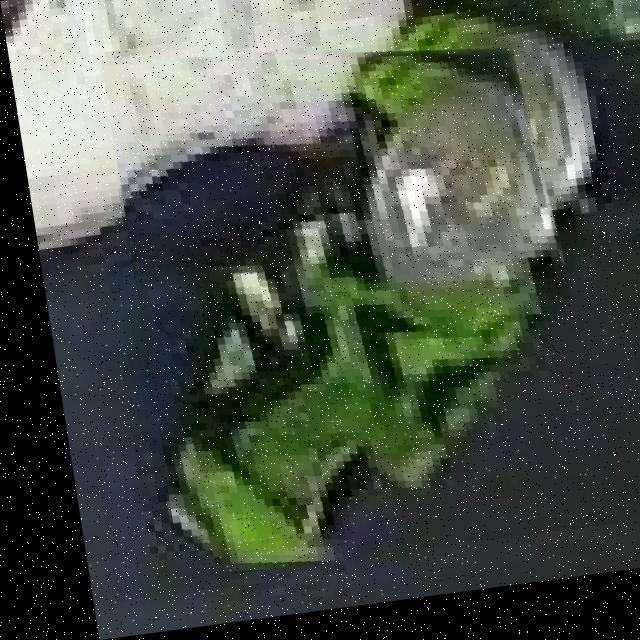can: (98, 9, 614, 583)
